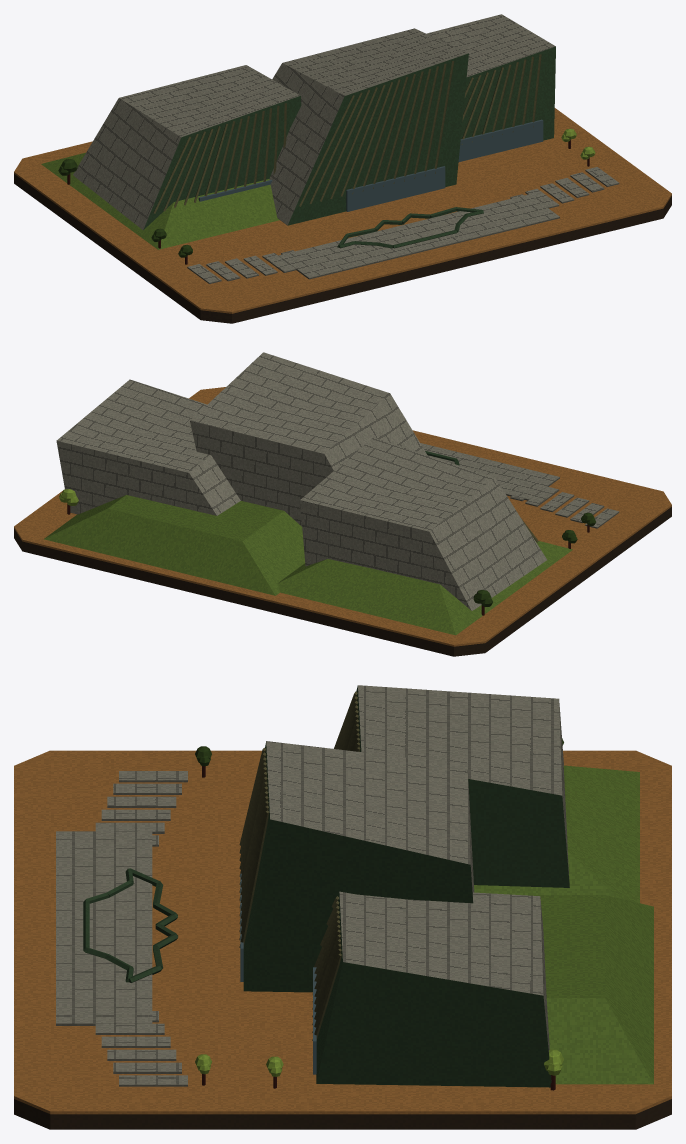
The model's file is sanxingdui.glb.
3 views of the same model, one above another, from view 1: azimuth 30°, elevation 25°; view 2: azimuth 150°, elevation 25°; view 3: azimuth 270°, elevation 25° (orthographic). The views are drawn at different scales.
Visible parts, largest first — view 1: 三星堆博物馆; view 2: 三星堆博物馆; view 3: 三星堆博物馆.
Part boxes in pixels (box(x1,y1,x2,y2)): 三星堆博物馆: box(14, 14, 671, 323); 三星堆博物馆: box(14, 352, 671, 656); 三星堆博物馆: box(14, 685, 671, 1129).
Size of the model in its own units: 10.9 by 2.94 by 8.4.
Materials: 10 (9 with a texture image).
